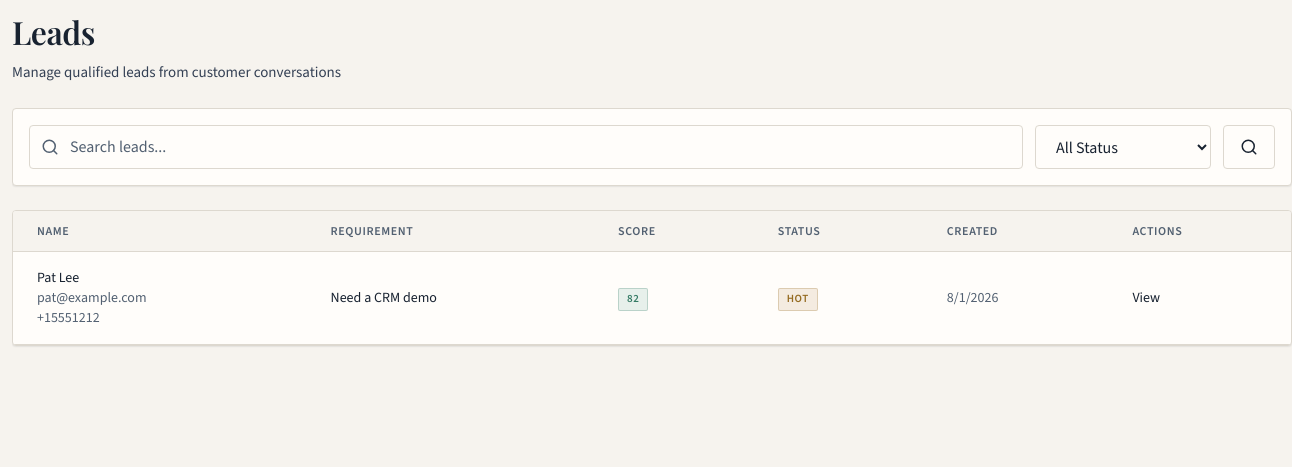
Test: Leads search and status filters › shows a filter empty state for status=NEW and recovers after Clear Filters
The width and height of the screenshot is (1292, 467).
Check: the text "Pat Lee" is shown, box [37,268,79,287]
Select "New" in the dropdown named "Status": (1123, 147) [1035,125,1211,169]
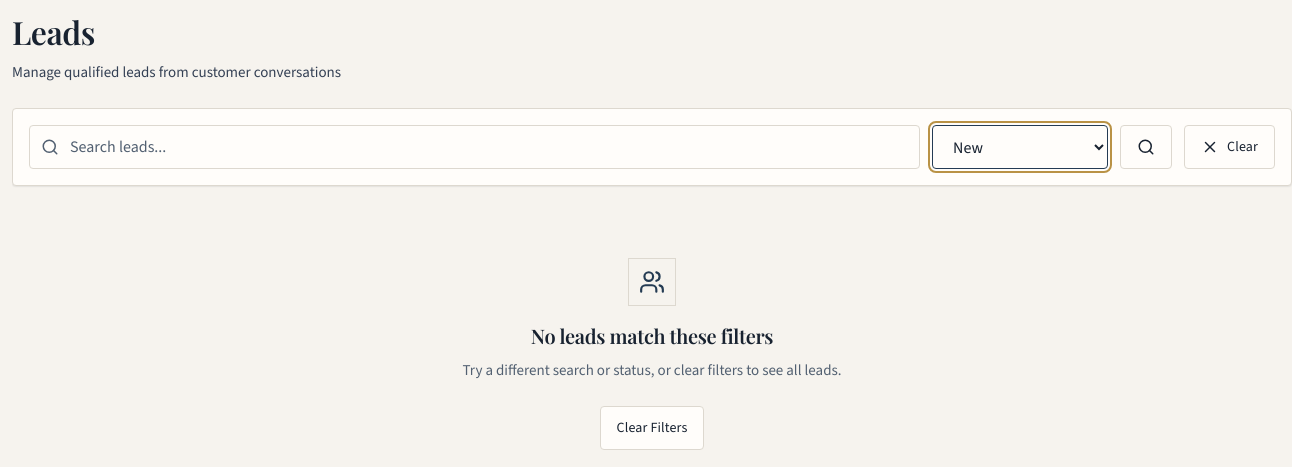
Check: the text "No leads match these filters" is shown, box [531,322,773,349]
Click the button "Clear Filters": click(652, 428) [600,406,704,450]
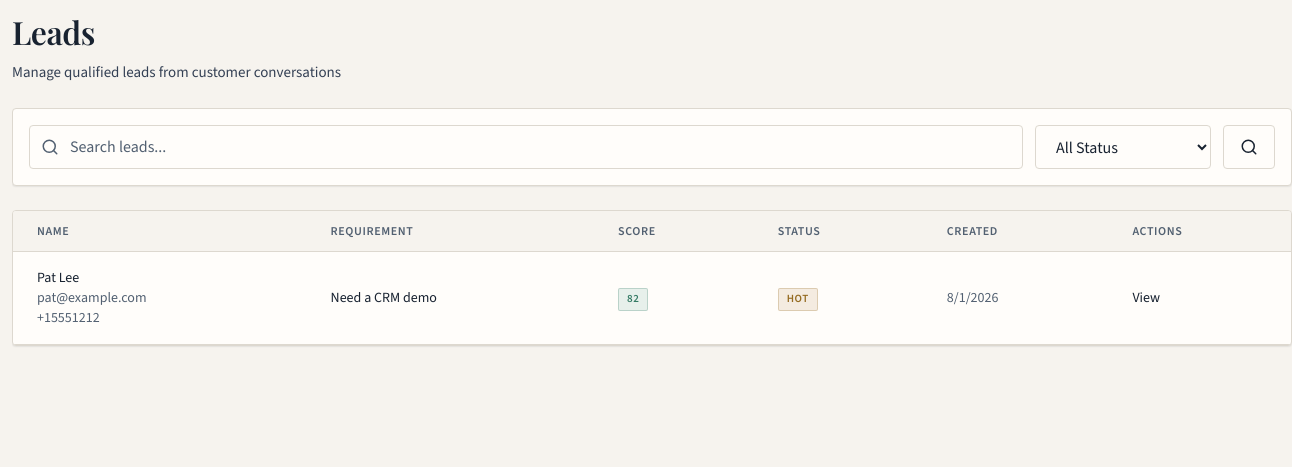
Check: the text "Pat Lee" is shown, box [37,268,79,287]
